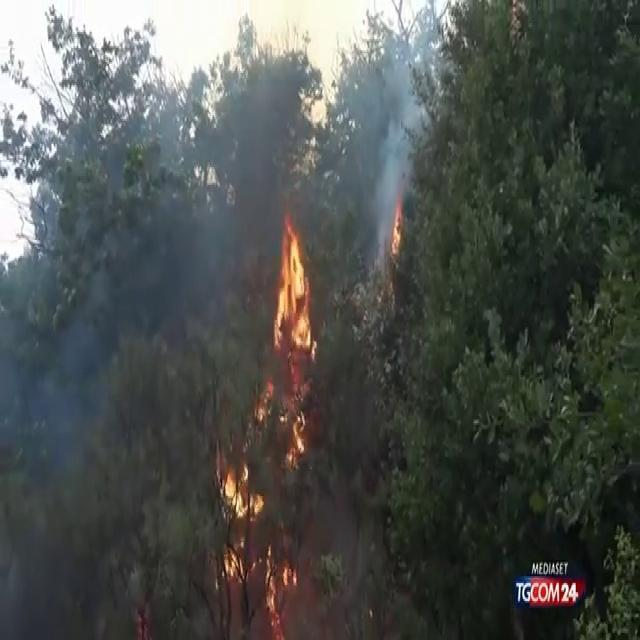Fire: (258, 208, 322, 468), (212, 441, 298, 633), (390, 190, 406, 265)
Smoke: (363, 13, 435, 270)
